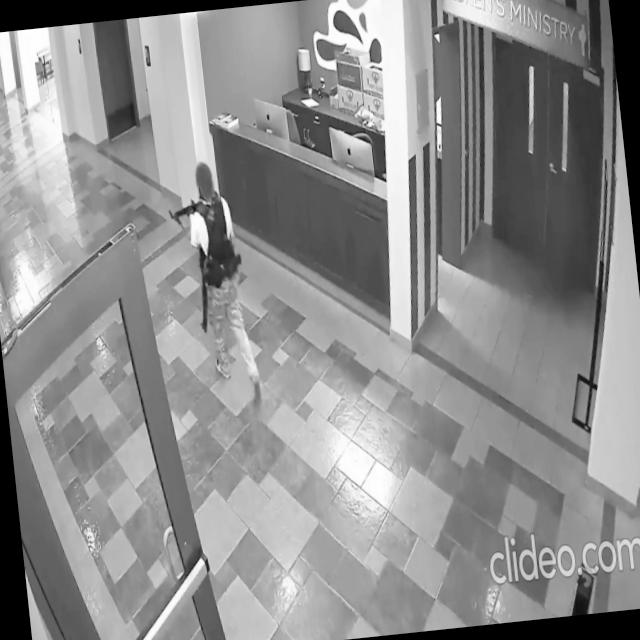gun: (192, 238, 214, 332), (167, 196, 206, 222)
person with a gun: (164, 156, 264, 412)
